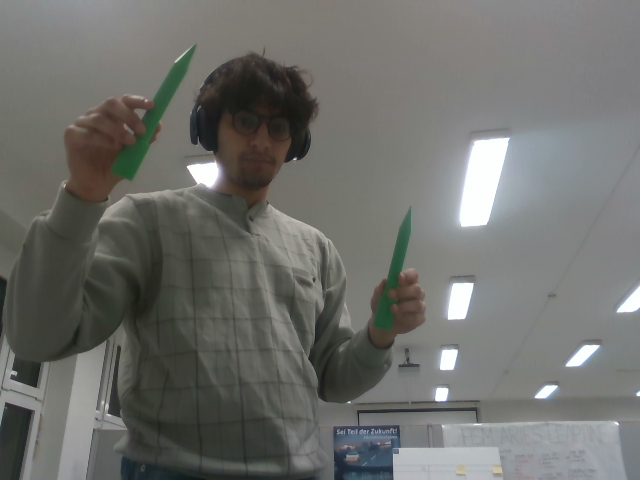Probe: (108, 39, 199, 185), (370, 202, 417, 333)
